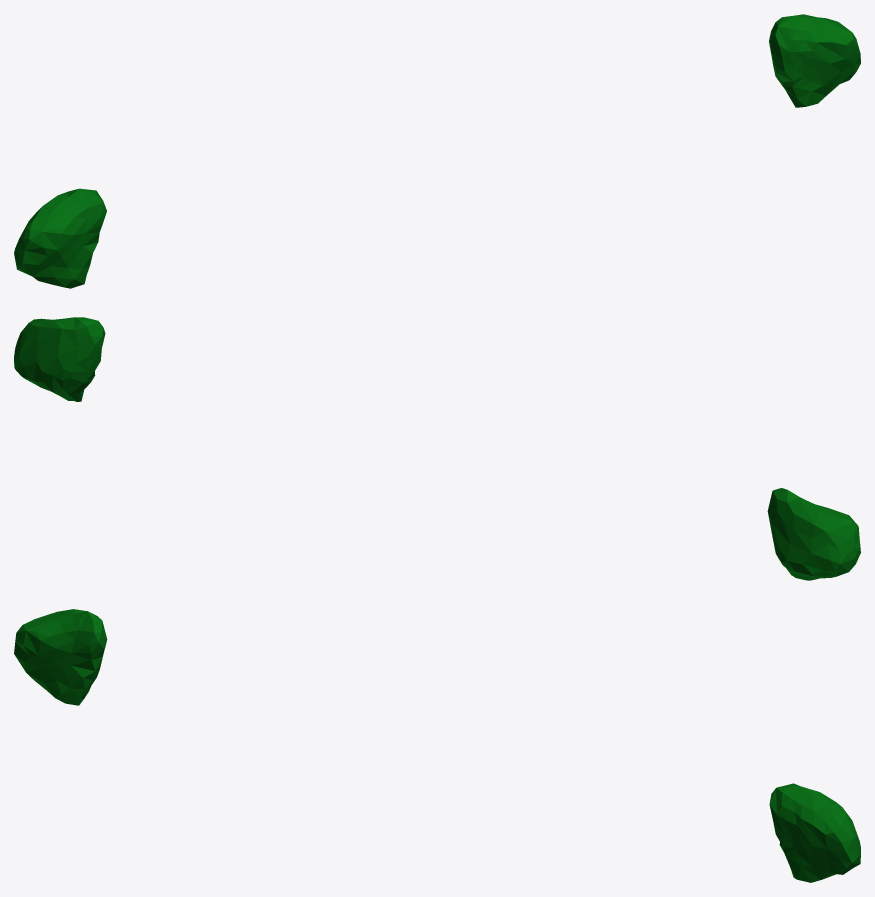
Rendered from 87-TFL-temporal area TF, lateral part-('0.0000', '0.4980', '0.0745').obj.
3 renders of one model, top to bottom at view 1: azimuth 30°, elevation 25°; view 2: azimuth 150°, elevation 25°; view 3: azimuth 330°, elevation 25°, orthographic.
Size of the model in its own units: 285 by 29.76 by 15.72.
